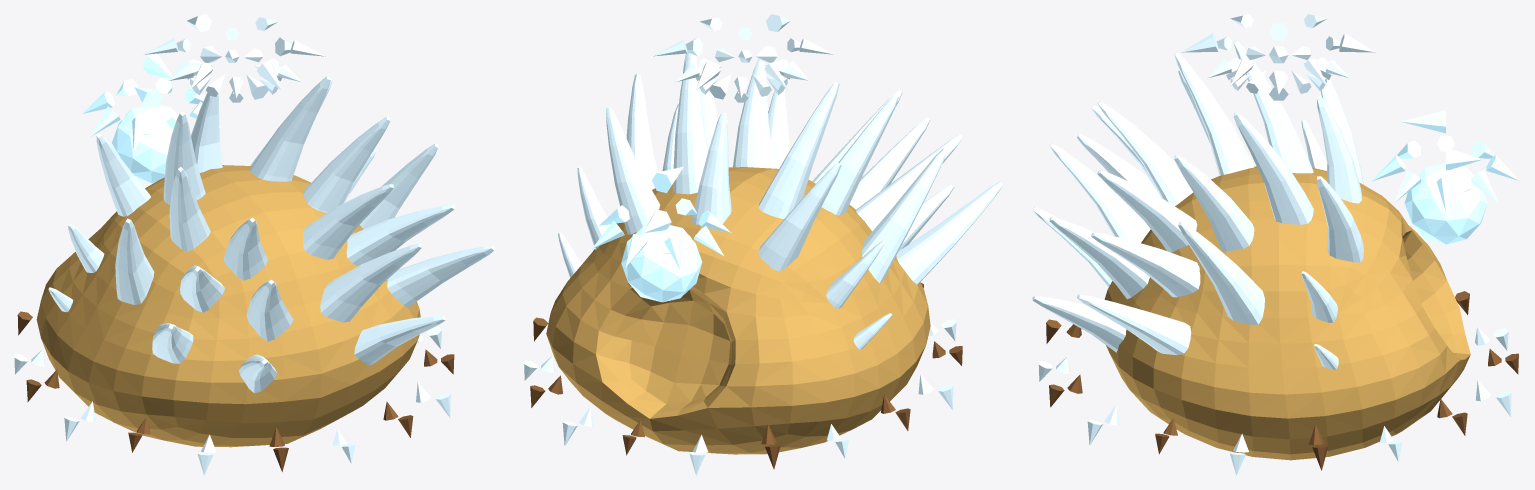
File: slime_king.glb
The picture shows the model from 3 angles, left to right: view 1: azimuth 30°, elevation 25°; view 2: azimuth 150°, elevation 25°; view 3: azimuth 270°, elevation 25°; orthographic projection. The views are drawn at different scales.
Visible parts, largest first — view 1: gel_amber, crystal, crystal_core, gel_dark; view 2: gel_amber, crystal, crystal_core, gel_dark; view 3: gel_amber, crystal, crystal_core, gel_dark.
Part boxes in pixels (box(x1,y1,x2,y2)): gel_amber: box(36, 165, 420, 447); crystal: box(14, 14, 495, 475); crystal_core: box(82, 53, 222, 183); gel_dark: box(17, 311, 454, 471); gel_amber: box(546, 167, 930, 454); crystal: box(524, 14, 1003, 475); crystal_core: box(592, 166, 731, 302); gel_dark: box(530, 282, 962, 469); gel_amber: box(1104, 166, 1470, 460); crystal: box(1032, 14, 1511, 475); crystal_core: box(1372, 110, 1519, 244); gel_dark: box(1046, 291, 1518, 470).
Size of the model in its own units: 2.7 by 2.68 by 2.96.
